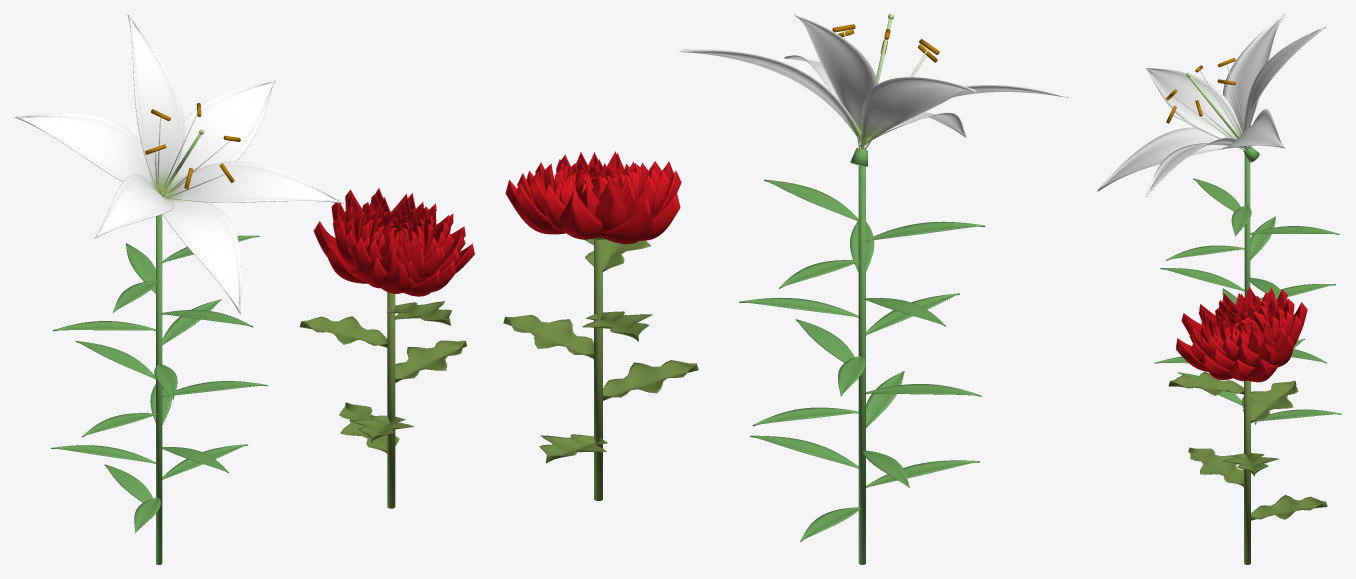
The model's file is ohana.glb.
3 renders of one model, left to right at view 1: azimuth 30°, elevation 25°; view 2: azimuth 150°, elevation 25°; view 3: azimuth 270°, elevation 25°, orthographic. The views are drawn at different scales.
Visible parts, largest first — view 1: Leaf, Petal_Outer_0, Petal_Inner_2, Petal_Outer_2, Petal_Inner_0, Petal_Inner_1, Petal_Outer_1, Stem, Stem.001, Leaf_2.001, Leaf_3.001, Leaf_0.001 (+6 smaller); view 2: Leaf, Petal_Inner_0, Petal_Outer_0, Stem, Stem.001, Petal_Inner_2, Leaf_2.001, Leaf_1.001, Petal_76, Petal_79, Leaf_0.001, Leaf_3.001 (+4 smaller); view 3: Leaf, Petal_Outer_1, Petal_Inner_0, Petal_Inner_1, Petal_Outer_0, Stem.001, Leaf_3.001, Petal_Inner_2, Leaf_1.001, Leaf_0.001, Leaf_4.001, Petal_Outer_2 (+10 smaller).
Boxes of the visible parts, x1=… form: Leaf: x1=51, y1=235, x2=267, y2=532; Petal_Outer_0: x1=127, y1=14, x2=184, y2=191; Petal_Inner_2: x1=160, y1=80, x2=275, y2=196; Petal_Outer_2: x1=166, y1=161, x2=344, y2=203; Petal_Inner_0: x1=14, y1=113, x2=163, y2=196; Petal_Inner_1: x1=160, y1=193, x2=241, y2=315; Petal_Outer_1: x1=94, y1=174, x2=174, y2=238; Stem: x1=156, y1=214, x2=162, y2=564; Stem.001: x1=387, y1=292, x2=395, y2=508; Leaf_2.001: x1=395, y1=340, x2=466, y2=382; Leaf_3.001: x1=299, y1=316, x2=388, y2=347; Leaf_0.001: x1=339, y1=402, x2=399, y2=453; Leaf: x1=739, y1=179, x2=985, y2=541; Petal_Inner_0: x1=861, y1=77, x2=976, y2=139; Petal_Outer_0: x1=794, y1=14, x2=877, y2=144; Stem: x1=858, y1=148, x2=865, y2=564; Stem.001: x1=594, y1=239, x2=602, y2=500; Petal_Inner_2: x1=679, y1=49, x2=861, y2=137; Leaf_2.001: x1=503, y1=315, x2=594, y2=358; Leaf_1.001: x1=602, y1=360, x2=698, y2=400; Petal_76: x1=560, y1=190, x2=603, y2=239; Petal_79: x1=600, y1=197, x2=653, y2=244; Leaf_0.001: x1=539, y1=434, x2=607, y2=463; Leaf_3.001: x1=582, y1=311, x2=652, y2=341; Leaf: x1=1154, y1=178, x2=1341, y2=424; Petal_Outer_1: x1=1146, y1=68, x2=1247, y2=148; Petal_Inner_0: x1=1223, y1=14, x2=1285, y2=132; Petal_Inner_1: x1=1097, y1=127, x2=1239, y2=191; Petal_Outer_0: x1=1243, y1=27, x2=1326, y2=149; Stem.001: x1=1244, y1=380, x2=1250, y2=564; Leaf_3.001: x1=1243, y1=380, x2=1298, y2=423; Petal_Inner_2: x1=1223, y1=109, x2=1285, y2=148; Leaf_1.001: x1=1188, y1=447, x2=1243, y2=486; Leaf_0.001: x1=1249, y1=495, x2=1327, y2=520; Leaf_4.001: x1=1168, y1=371, x2=1245, y2=395; Petal_Outer_2: x1=1146, y1=137, x2=1247, y2=197.
Bounding box in the file's own units: 18.75 × 21.1 × 10.53.
7 materials, 2 textured.
